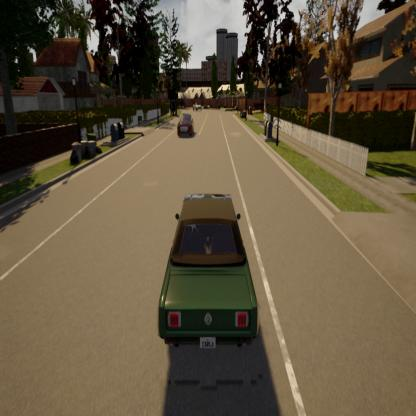Cars: (156, 165, 264, 355), (171, 101, 198, 145)
